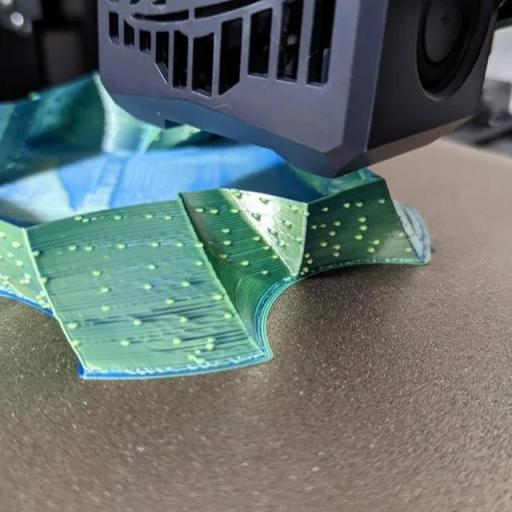blobs: (200, 334, 222, 350), (17, 270, 33, 287), (130, 316, 146, 332), (29, 246, 43, 262), (217, 224, 233, 238), (110, 210, 124, 224), (97, 284, 114, 295), (90, 268, 107, 278), (171, 334, 184, 347), (120, 338, 133, 351), (150, 238, 162, 252), (180, 278, 194, 290), (68, 320, 82, 332), (81, 213, 92, 228), (174, 240, 189, 251), (192, 205, 208, 215), (354, 214, 370, 224), (66, 242, 80, 253), (142, 281, 156, 292), (164, 296, 178, 307), (196, 239, 206, 254), (258, 268, 273, 278), (14, 259, 26, 271), (194, 258, 205, 271), (231, 188, 244, 199), (222, 309, 235, 320), (12, 238, 22, 252), (250, 234, 264, 244), (212, 291, 226, 301), (68, 340, 82, 350), (370, 236, 384, 246), (354, 199, 366, 210), (396, 231, 407, 243), (3, 250, 16, 260), (82, 244, 95, 254), (250, 210, 263, 220), (220, 238, 233, 248), (100, 304, 113, 314), (38, 275, 52, 284), (178, 316, 192, 325), (268, 225, 278, 237), (260, 242, 272, 252), (268, 250, 280, 260), (239, 258, 251, 268), (308, 225, 323, 233), (331, 242, 343, 252), (364, 244, 376, 254), (163, 212, 174, 222), (283, 218, 294, 228), (319, 202, 329, 213), (326, 228, 337, 238), (148, 263, 160, 272), (210, 207, 220, 217), (320, 220, 330, 230), (300, 266, 311, 275), (230, 208, 242, 216), (331, 250, 343, 258), (116, 242, 126, 251), (260, 196, 270, 205), (220, 252, 229, 262), (306, 256, 316, 265), (359, 224, 370, 232), (332, 218, 343, 226), (290, 206, 299, 215), (302, 249, 311, 258), (343, 202, 353, 210), (380, 196, 390, 204), (320, 240, 330, 247), (354, 234, 364, 240), (147, 212, 153, 220)
